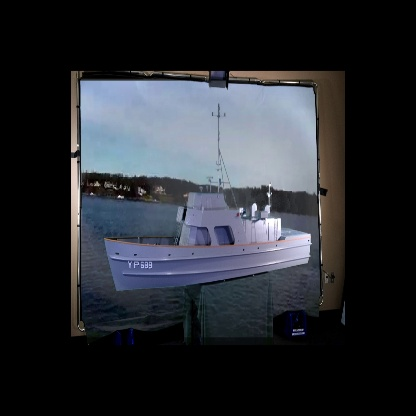YP689: (102, 102, 312, 294)
